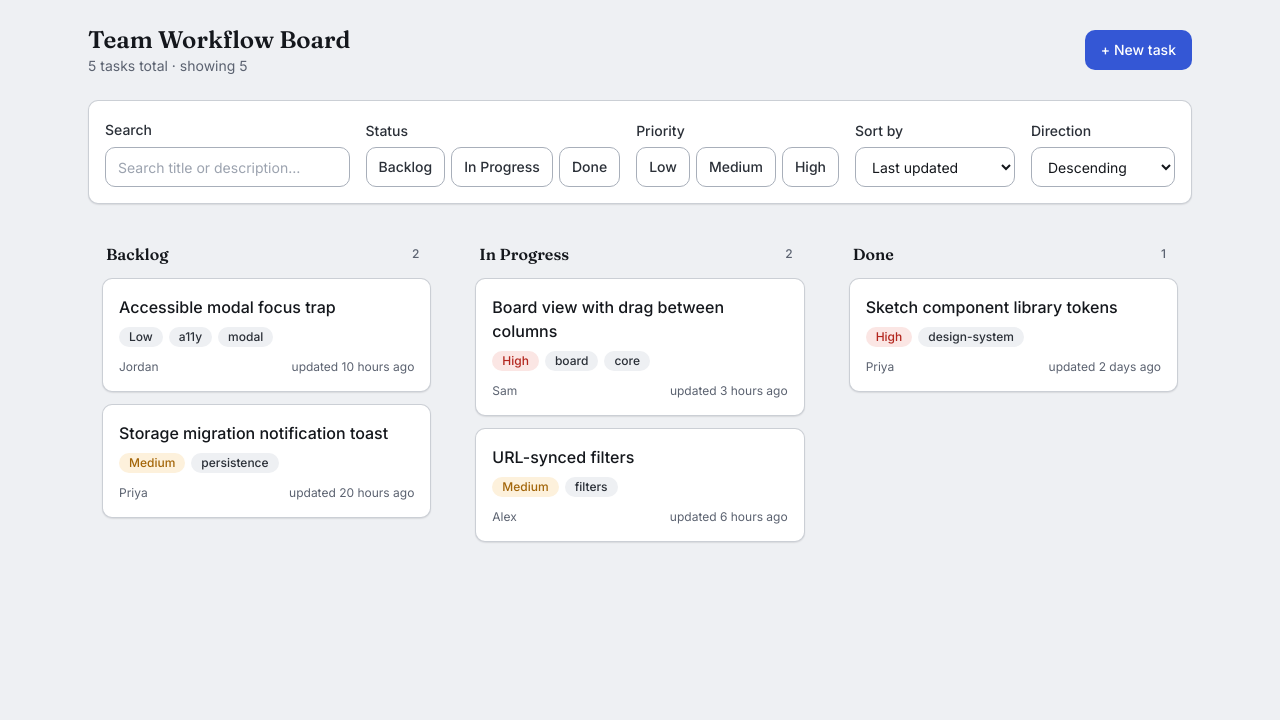
Test: creating a task › adds a new task and shows it in the Backlog column
Click the button "+ New task" at (1138, 50), box [1085,30,1192,70]
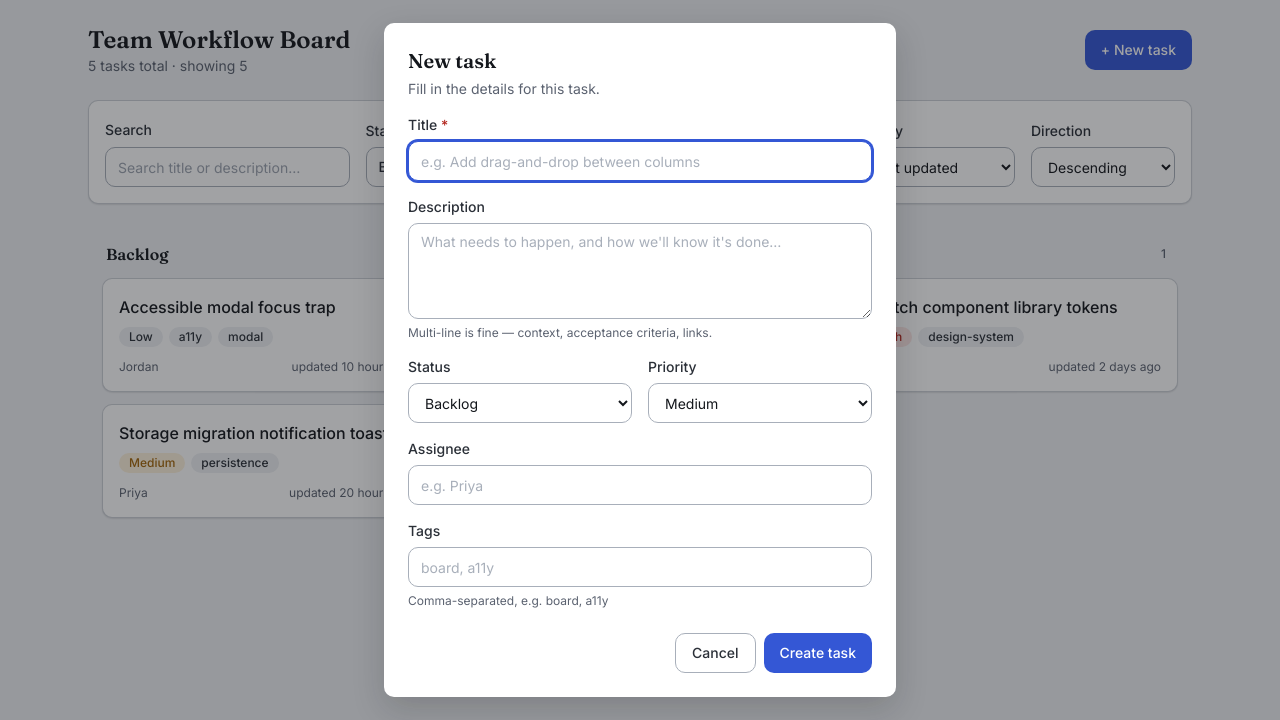
Type "Write onboarding docs" into the field labelled "Title *" at (640, 161), box [408,141,872,181]
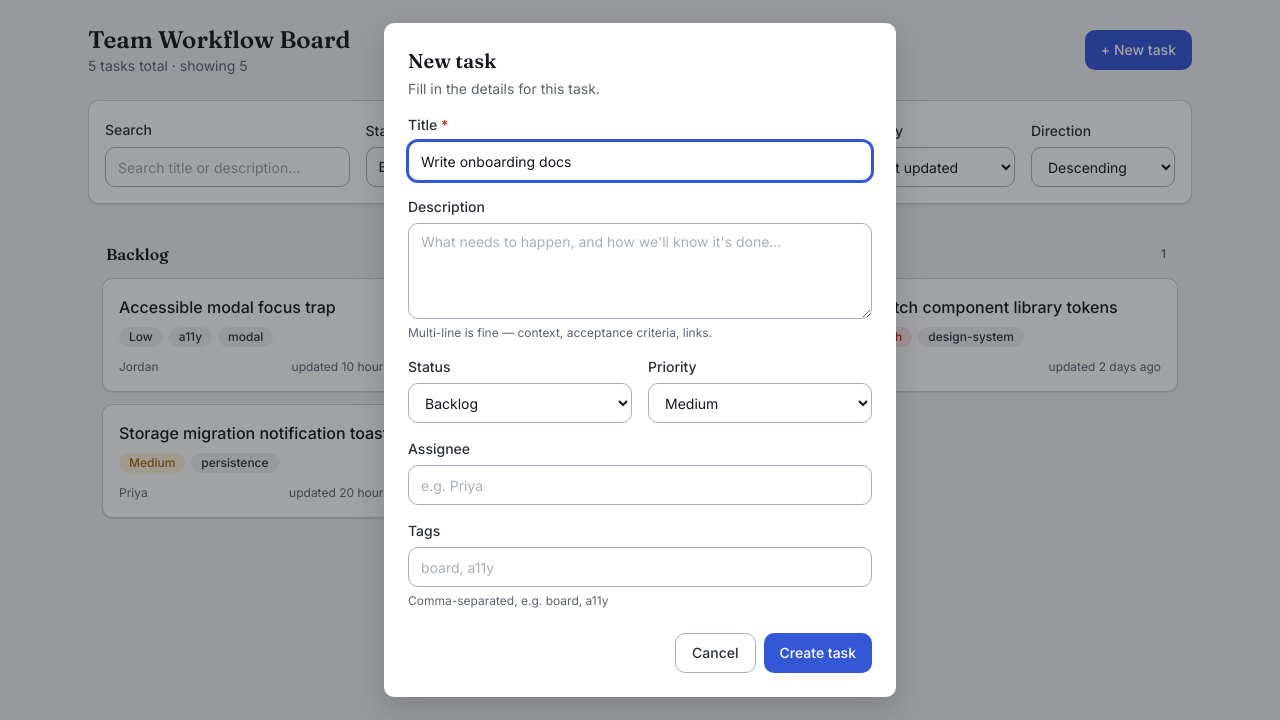
Type "Morgan" into the field labelled "Assignee" at (640, 485), box [408,465,872,505]
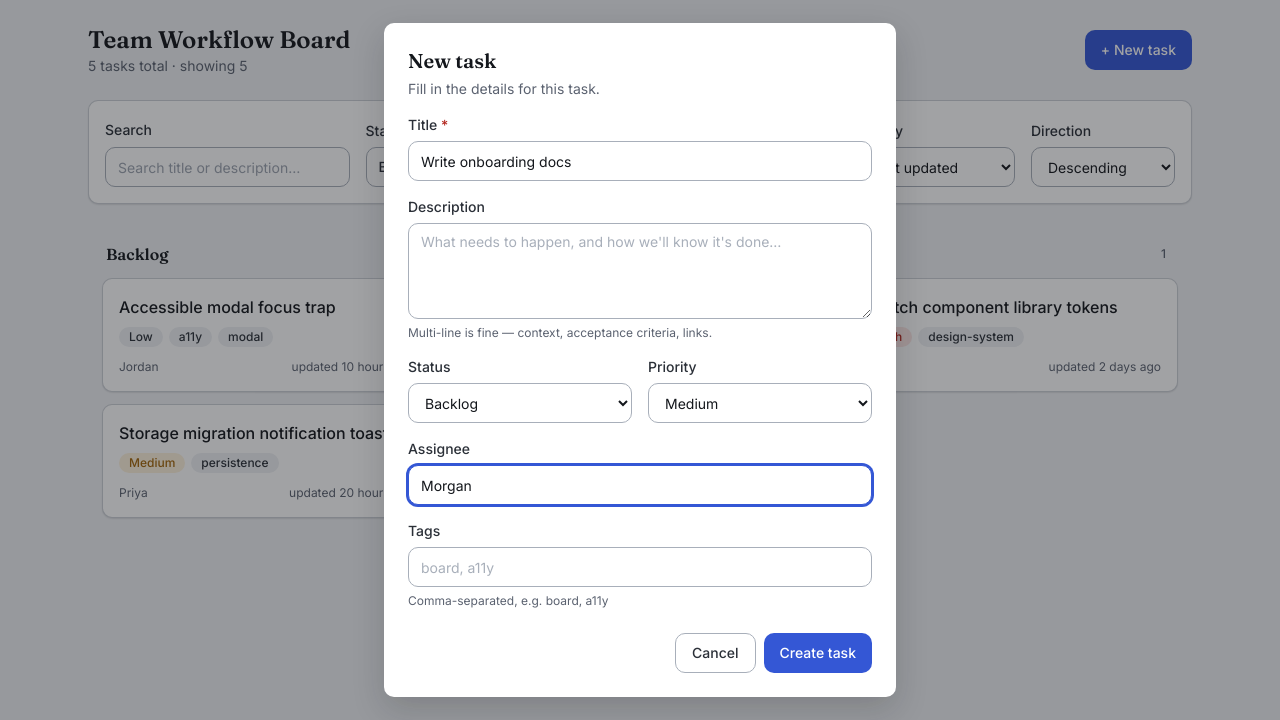
Click the button "Create task" at (818, 653), box [764,633,872,673]
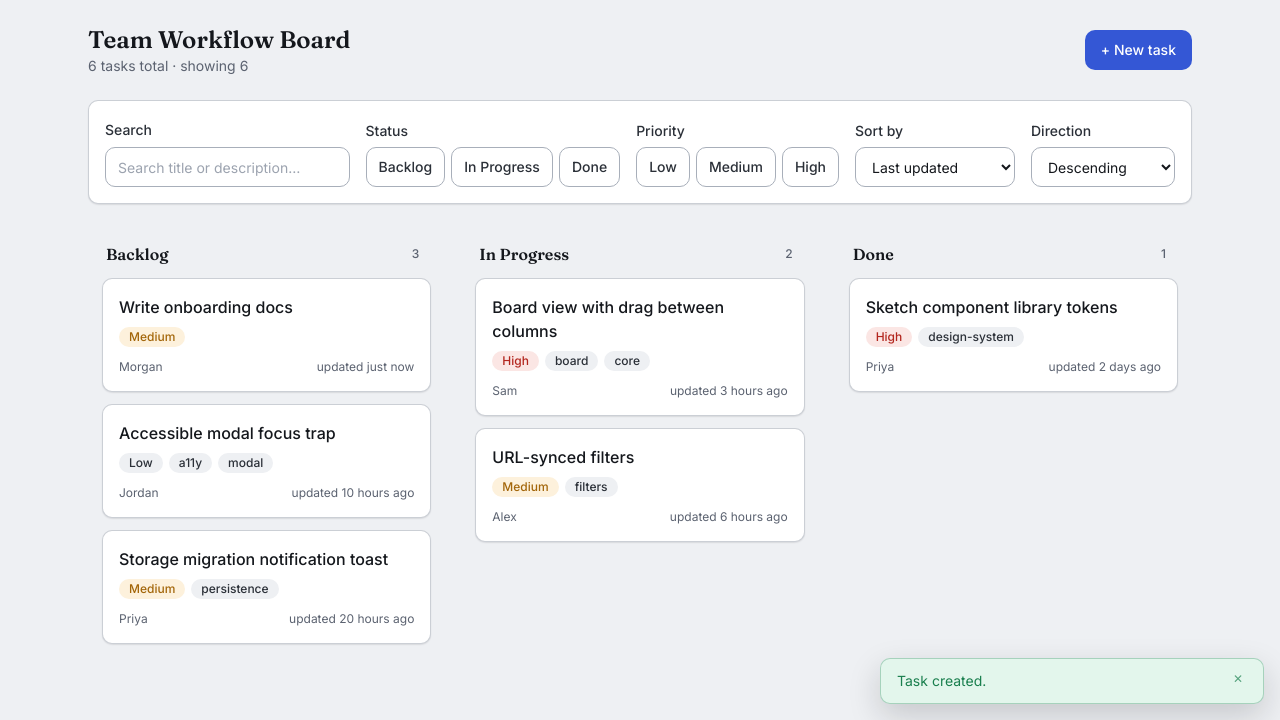
expect the heading "Write onboarding docs" is shown: met, box [119,297,293,317]
expect the text "Morgan" is shown: met, box [119,359,162,375]
expect the text "Task created." is shown: met, box [897,671,986,691]
